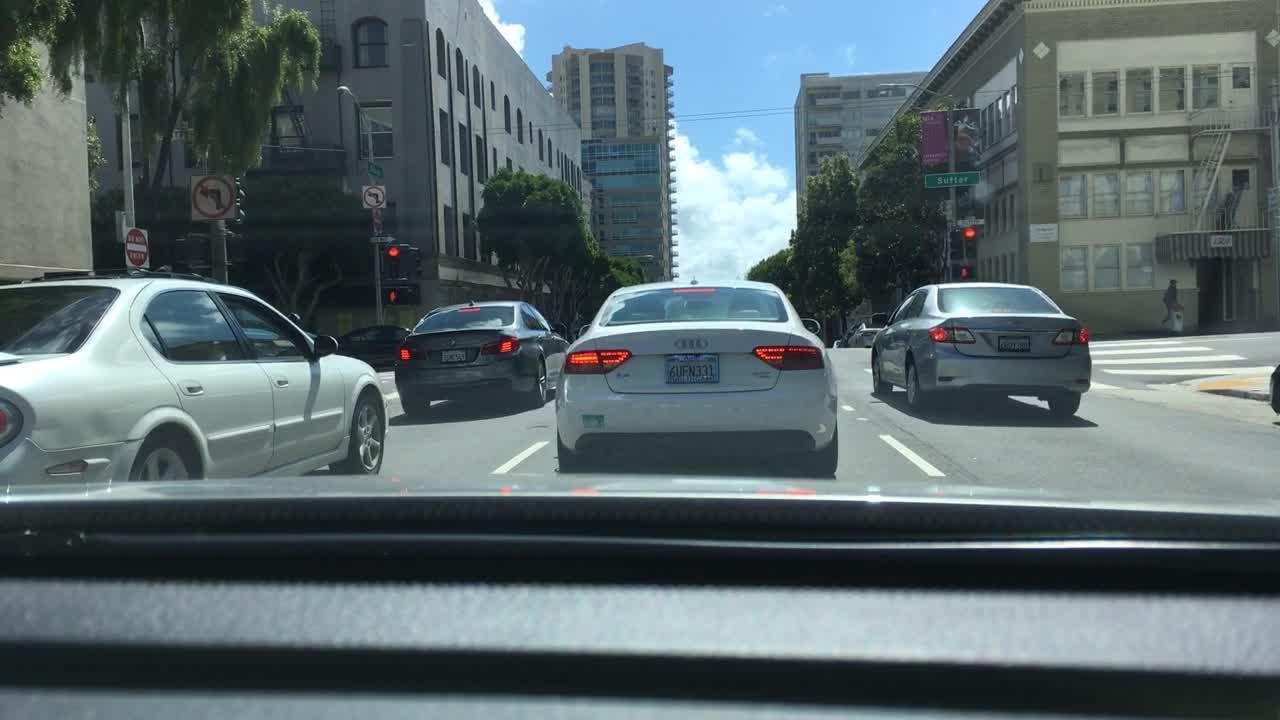Audi: (662, 331, 724, 360)
